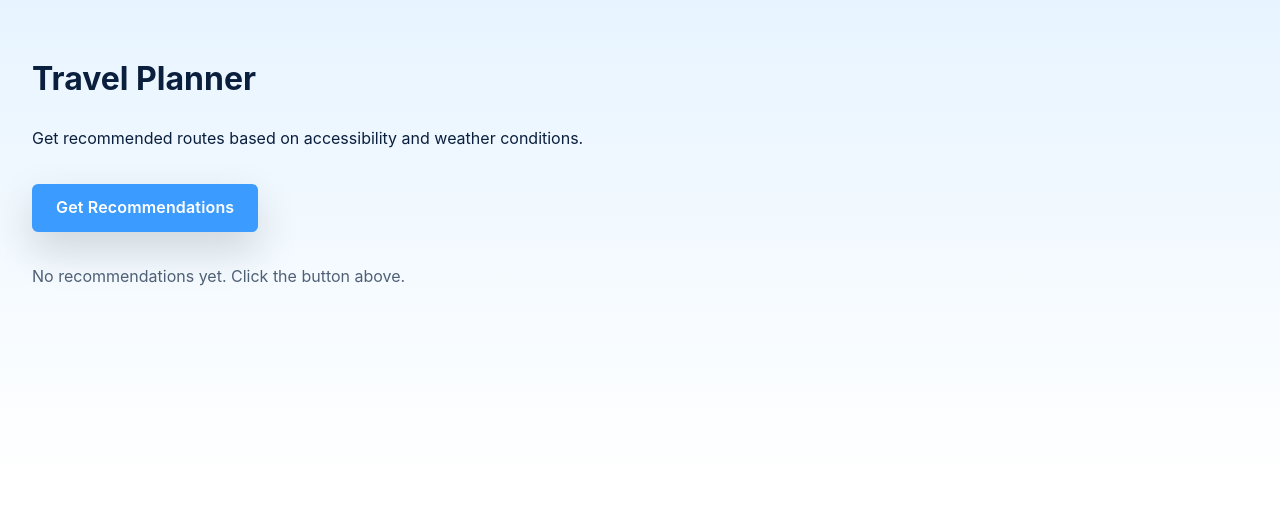
it: TravelPlanner › loads and displays recommended routes
Click the button "Get Recommendations". click: coordinates (145, 208)
box: left=32, top=184, right=258, bottom=232
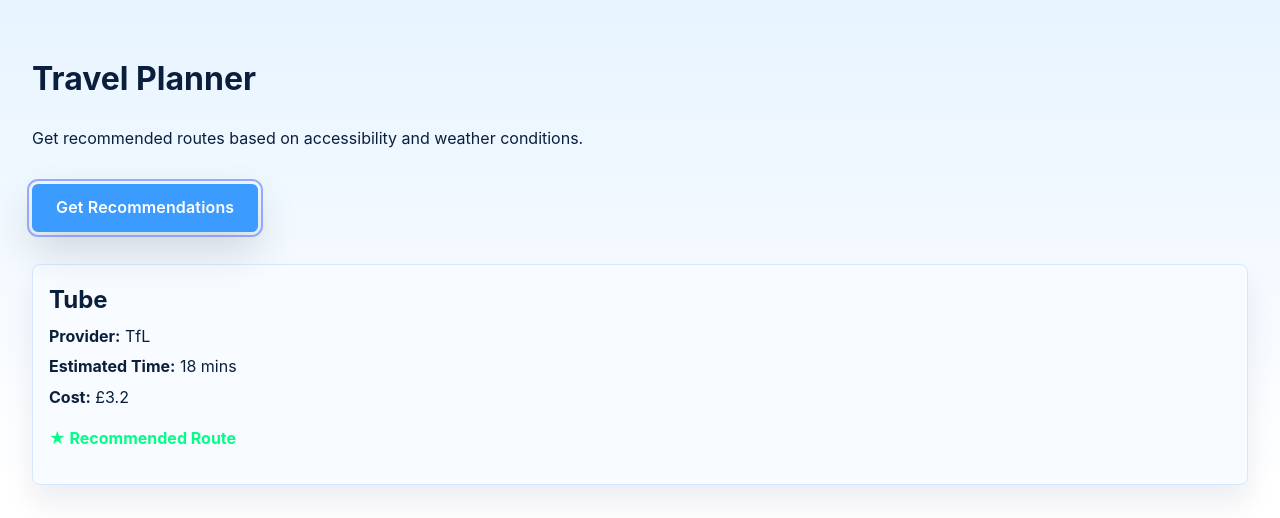
expect the heading "Tube" is shown: met, box left=49, top=285, right=108, bottom=314
expect the text "Provider:" is shown: met, box left=49, top=326, right=120, bottom=346
expect the text "★ Recommended Route" is shown: met, box left=49, top=428, right=236, bottom=448
